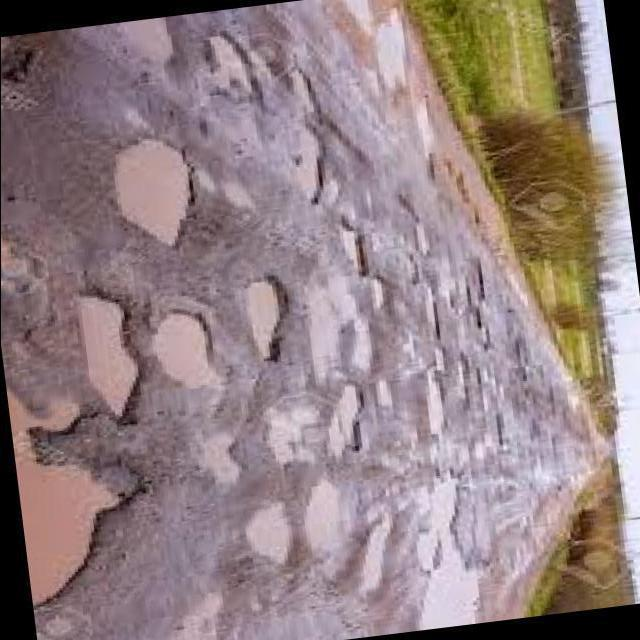pothole: (7, 395, 112, 605), (112, 138, 190, 246), (79, 297, 134, 414), (154, 312, 216, 387), (244, 273, 289, 361), (209, 35, 266, 99), (245, 503, 292, 561), (298, 481, 337, 543), (335, 226, 368, 274), (295, 151, 323, 201), (355, 387, 375, 453)
